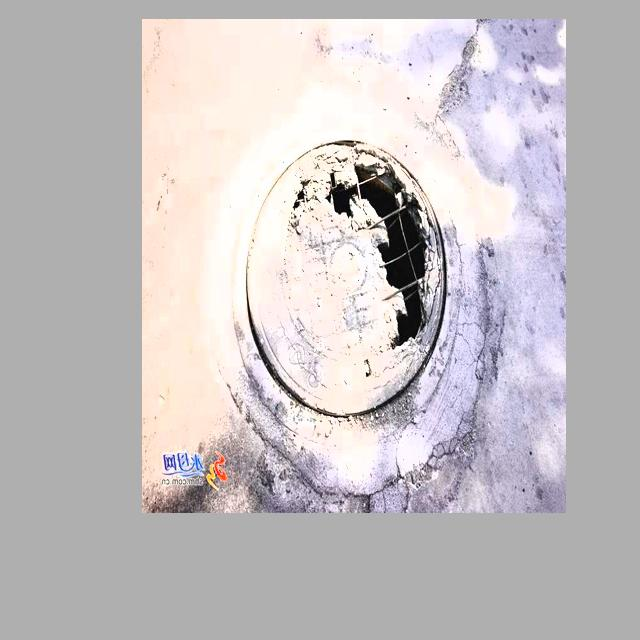broke: (192, 109, 506, 478)
